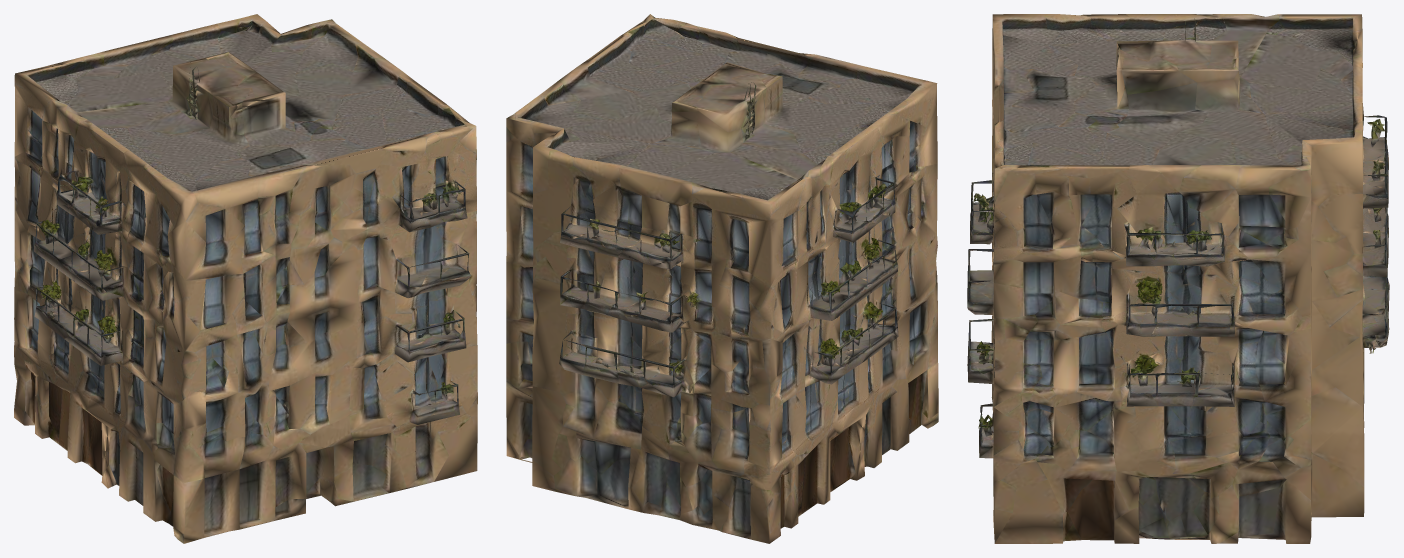
The model's file is resblock_lod1.glb.
3 renders of one model, left to right at view 1: azimuth 30°, elevation 25°; view 2: azimuth 150°, elevation 25°; view 3: azimuth 270°, elevation 25°, orthographic. The views are drawn at different scales.
Visible parts, largest first — view 1: mesh_node; view 2: mesh_node; view 3: mesh_node.
Boxes of the visible parts, x1,y1,x2,y2 form: mesh_node: (14,14,477,543); mesh_node: (506,14,938,543); mesh_node: (967,14,1389,543).
Bounding box in the file's own units: 1.72 × 1.9 × 1.72.
1 material, 1 textured.
